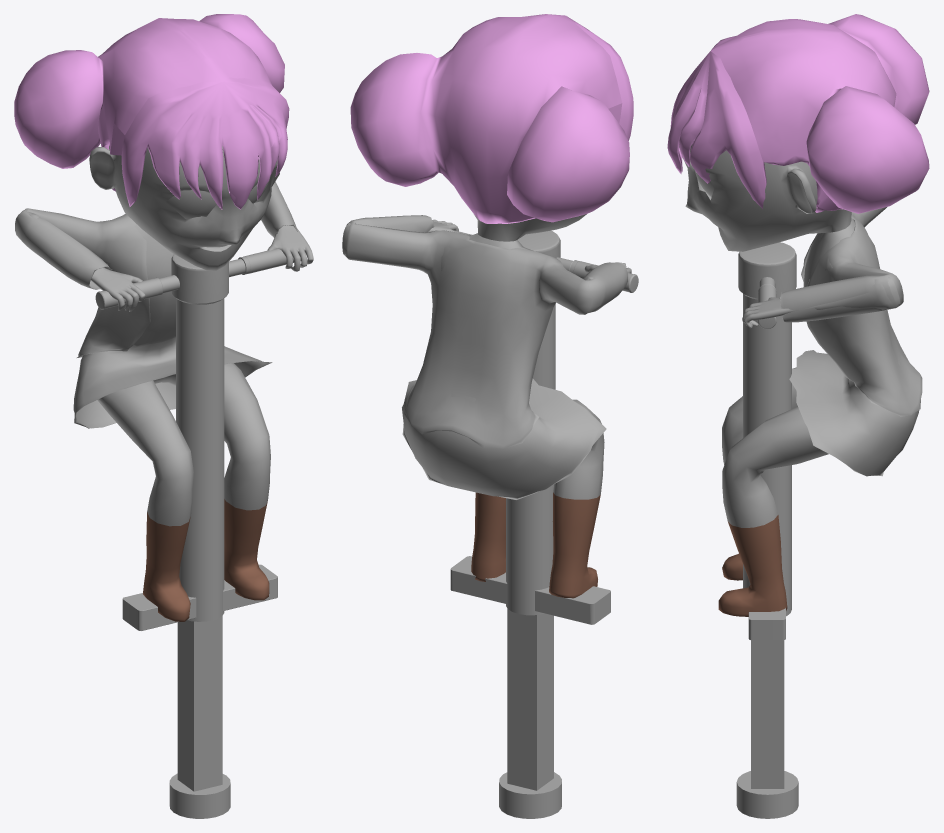
Rendered from Girl 1 on pogo stick.fbx.
3 views of the same model, side by side, from view 1: azimuth 30°, elevation 25°; view 2: azimuth 150°, elevation 25°; view 3: azimuth 270°, elevation 25° (orthographic). The views are drawn at different scales.
Parts seen in each view (by area): view 1: polySurface46, polySurface42, Pogo_stick__with_animation_:pCube4; view 2: polySurface46, polySurface42, Pogo_stick__with_animation_:pCube4; view 3: polySurface46, polySurface42, Pogo_stick__with_animation_:pCube4.
Part boxes in pixels (x1,y1,x2,y2): polySurface46: (14,14,313,621); polySurface42: (95,249,301,630); Pogo_stick__with_animation_:pCube4: (169,616,230,818); polySurface46: (342,14,633,598); polySurface42: (450,230,638,624); Pogo_stick__with_animation_:pCube4: (499,608,561,818); polySurface46: (667,14,929,616); polySurface42: (738,242,796,640); Pogo_stick__with_animation_:pCube4: (736,640,798,818).
Size of the model in its own units: 4.77 by 13.52 by 4.16.
